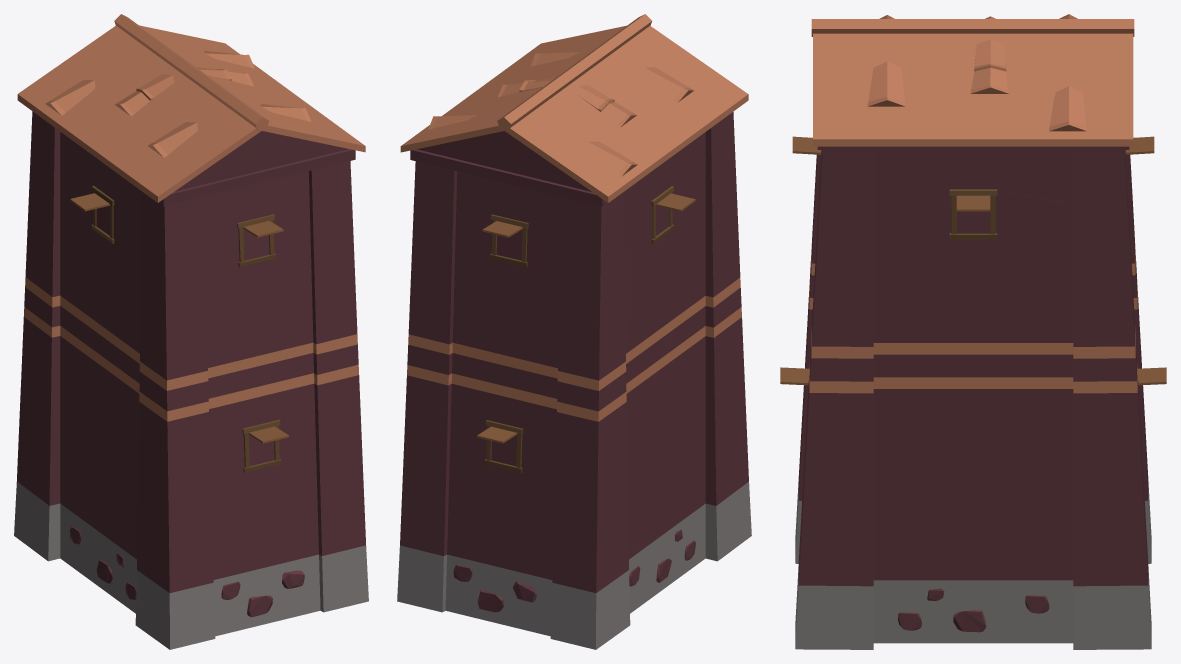
Rendered from SM_Tower_Fortified_Roof_Empire.fbx.
3 renders of one model, left to right at view 1: azimuth 30°, elevation 25°; view 2: azimuth 150°, elevation 25°; view 3: azimuth 270°, elevation 25°, orthographic. The views are drawn at different scales.
Visible parts, largest first — view 1: SM_Tower_Fortified_Roof_Empire; view 2: SM_Tower_Fortified_Roof_Empire; view 3: SM_Tower_Fortified_Roof_Empire.
Boxes of the visible parts, <box> form: SM_Tower_Fortified_Roof_Empire: <box>14,14,368,649</box>; SM_Tower_Fortified_Roof_Empire: <box>397,14,751,649</box>; SM_Tower_Fortified_Roof_Empire: <box>780,14,1166,649</box>.
Bounding box in the file's own units: 7 × 14.79 × 9.
